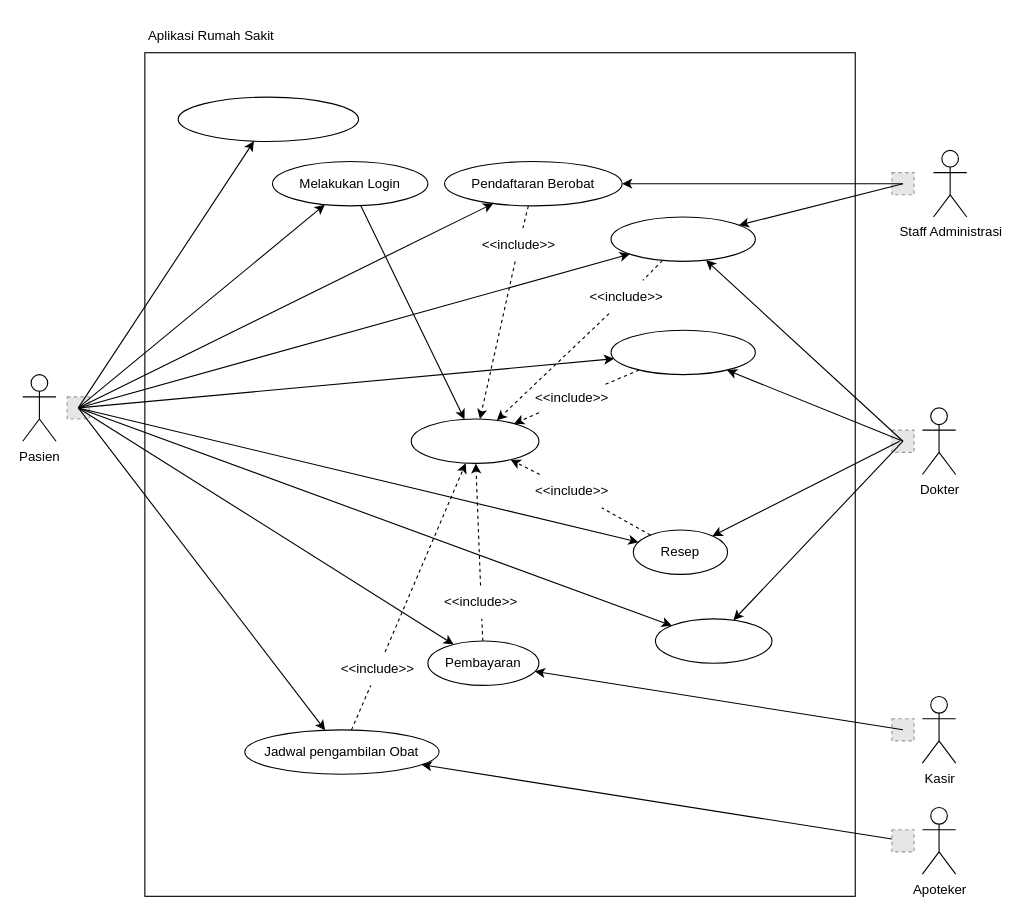
Some shapes in this 1020 by 916 pixel diagram are drawn without their labels. Grey dashed boxes stand in for pictures. Each missing label, with the centre of its shape:
Cek Jadwal Dokter: point 713,640
Hasil Pemeriksaan: point 682,352
Jadwal Berobat: point 682,238
Melakukan Registrasi: point 268,119
Validasi Login: point 474,440
